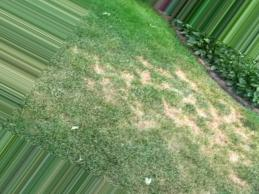patch: (89, 92, 144, 120), (176, 165, 214, 193), (141, 129, 181, 154), (100, 62, 139, 87), (158, 99, 187, 124), (195, 135, 223, 160), (214, 104, 239, 126), (170, 63, 195, 84), (193, 113, 212, 130), (223, 168, 240, 181), (232, 138, 242, 156)
